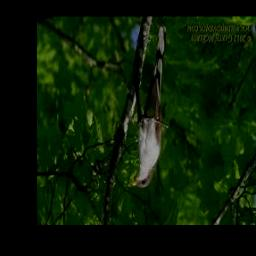Cuckoo: (133, 26, 167, 188)
